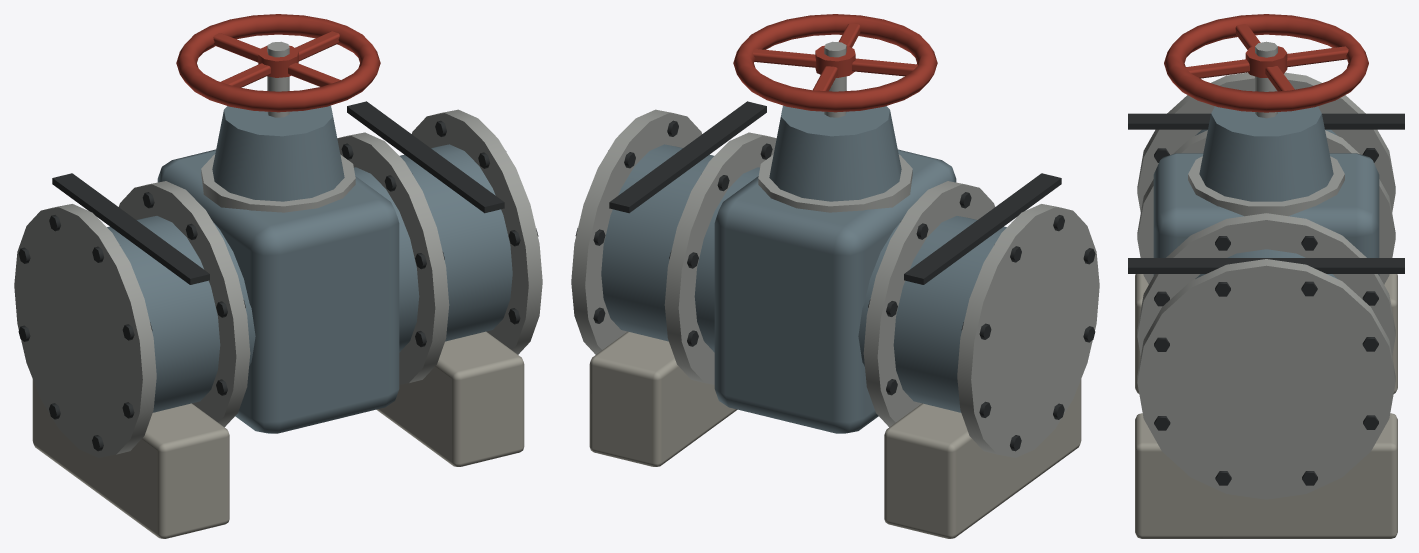
Rendered from valve.glb.
3 views of the same model, side by side, from view 1: azimuth 30°, elevation 25°; view 2: azimuth 150°, elevation 25°; view 3: azimuth 270°, elevation 25° (orthographic).
Visible parts, largest first — view 1: paint-slate, steel, concrete, paint-red, steel-dark; view 2: paint-slate, steel, concrete, paint-red, steel-dark; view 3: steel, paint-slate, concrete, paint-red, steel-dark.
Part boxes in pixels (x1,y1,x2,y2): paint-slate: (107, 105, 512, 433); steel: (14, 41, 542, 457); concrete: (32, 331, 524, 538); paint-red: (176, 14, 380, 112); steel-dark: (18, 101, 538, 451); paint-slate: (601, 105, 1006, 433); steel: (571, 41, 1099, 457); concrete: (589, 331, 1081, 538); paint-red: (733, 14, 937, 112); steel-dark: (575, 101, 1095, 451); steel: (1137, 41, 1395, 499); paint-slate: (1153, 90, 1379, 278); concrete: (1135, 274, 1397, 538); paint-red: (1164, 14, 1368, 112); steel-dark: (1128, 113, 1404, 485).
Size of the model in its own units: 2.05 by 1.94 by 1.2.
